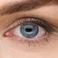eye: (21, 23, 38, 38)
